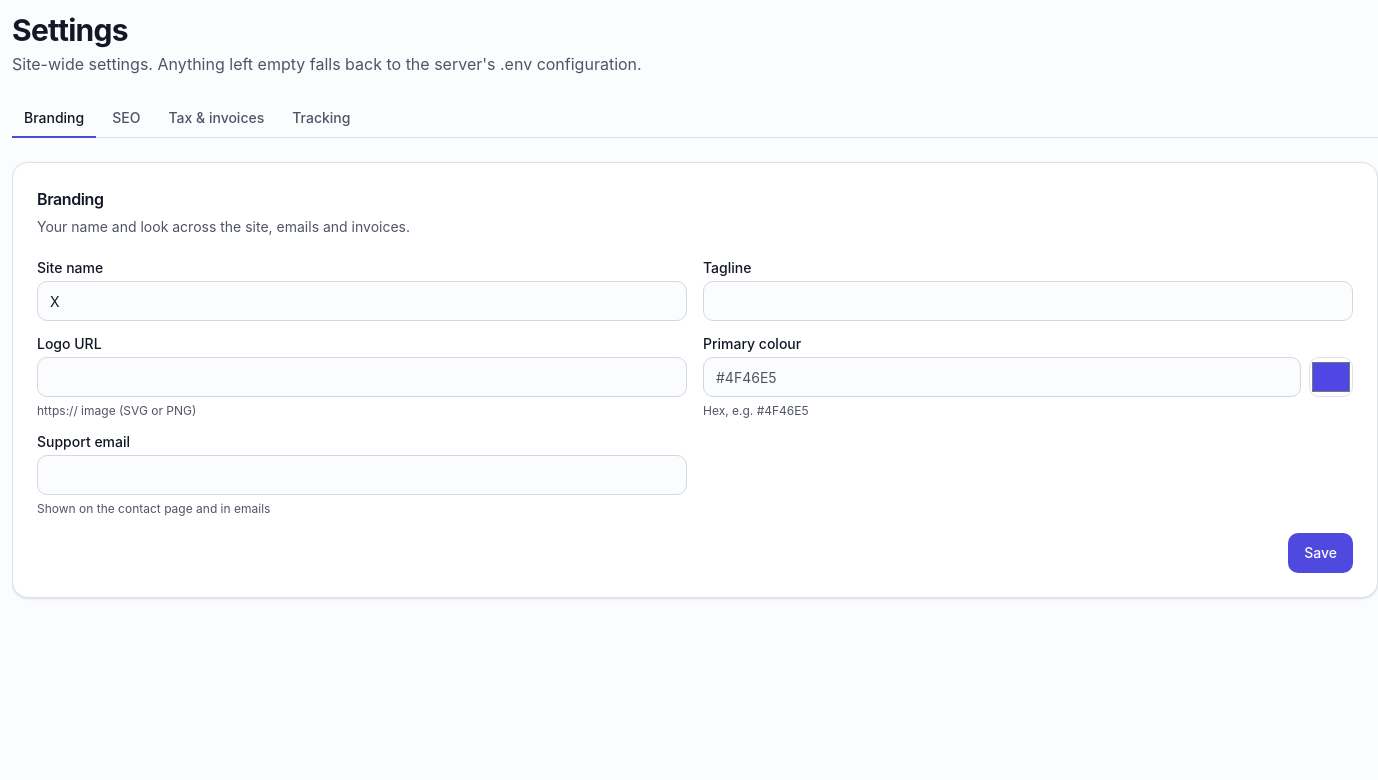
Test: settings payload › hides gateway keys from admins without the secrets permission
Expected: the tab "Branding" is shown, [12,100,96,138]
Click the tab "Tracking" at [321, 119], box [280,100,362,138]
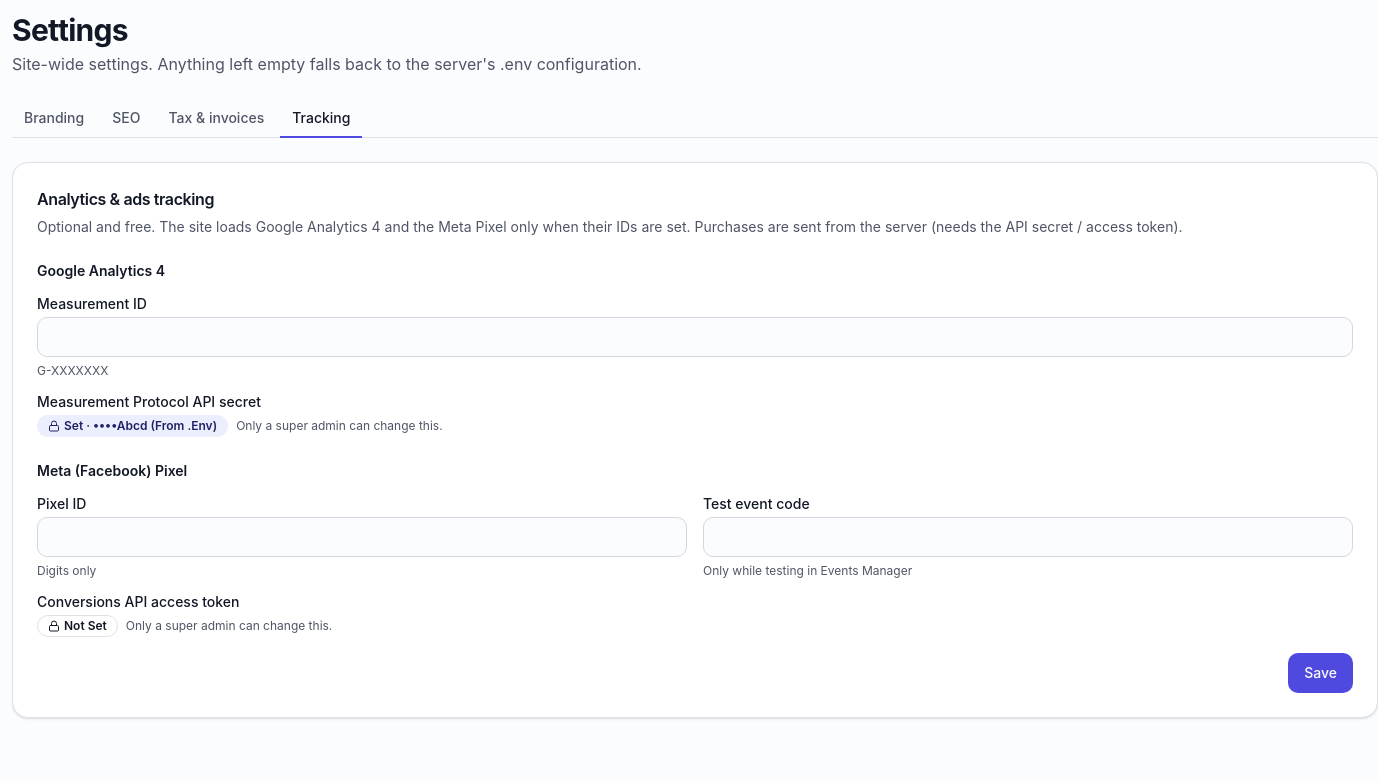
Expected: the text "Only a super admin can change this." is shown 2 times, [236,418,443,434]; [126,618,332,634]
